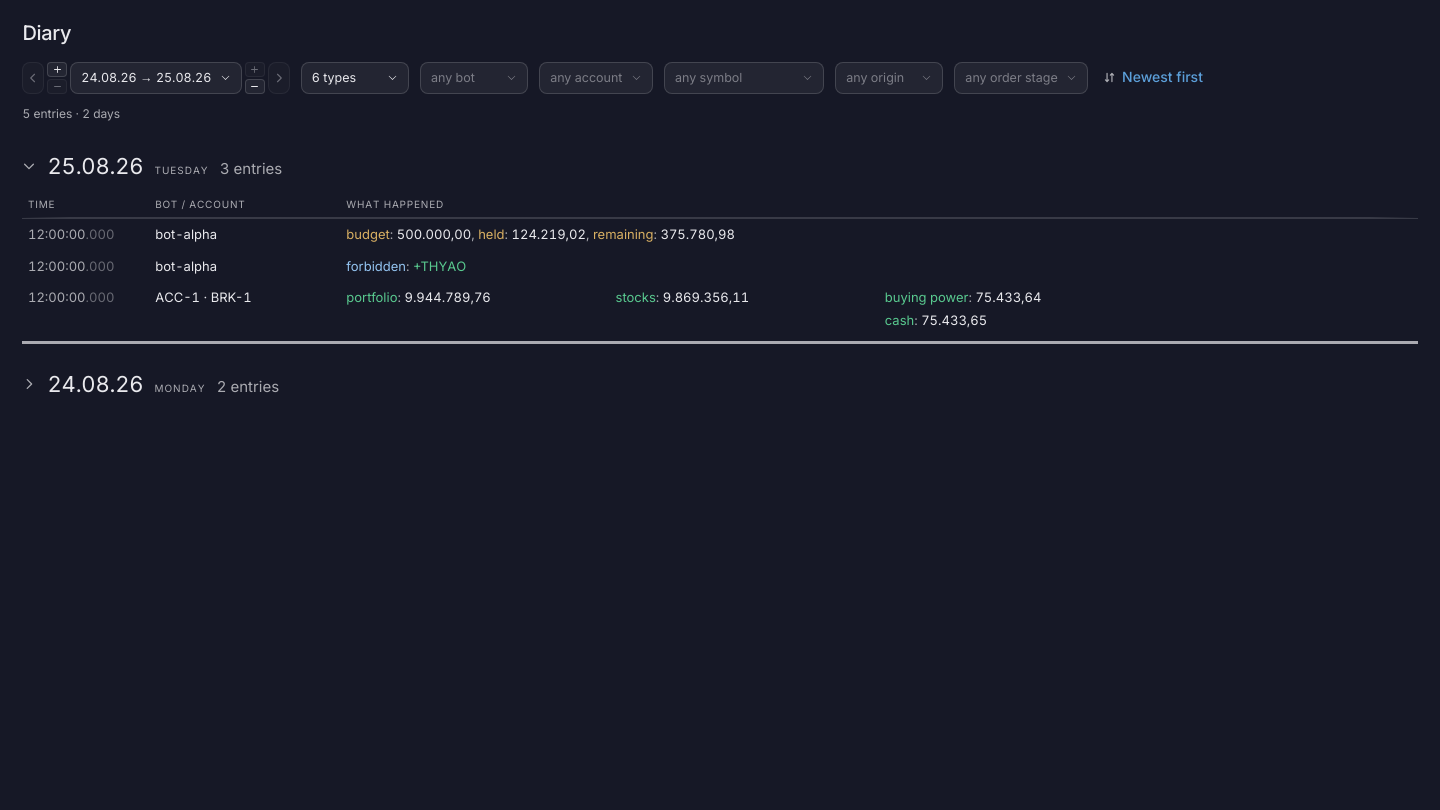
Test: Diary toolbar › opens with both entity filters off and asks neither
Check: the text "25.08.26" is shown, box [48,148,143,183]
Check: the button "any account" is shown, box [539,62,653,94]
Off, every box behind the switch is disabled and none of them is ticked.
What coordinates should you click on to do the following:
click the button "any bot"
I would click on:
 (474, 78)
Its box is [420,62,528,94].
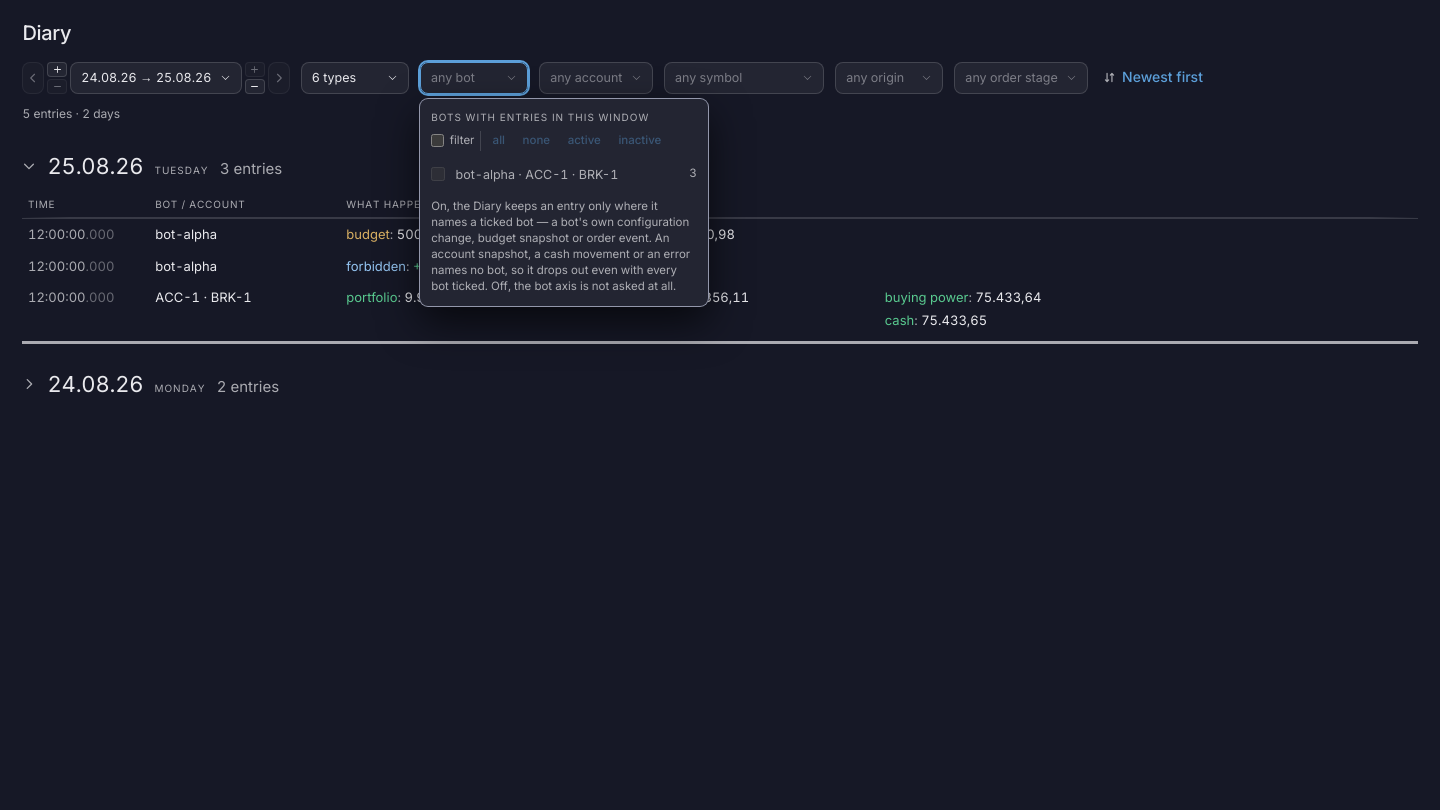
Check: the checkbox labelled "bot-alpha · ACC-1 · BRK-1 3" is disabled, box [431,167,445,181]
Check: the checkbox labelled "bot-alpha · ACC-1 · BRK-1 3" is not checked, box [431,167,445,181]
